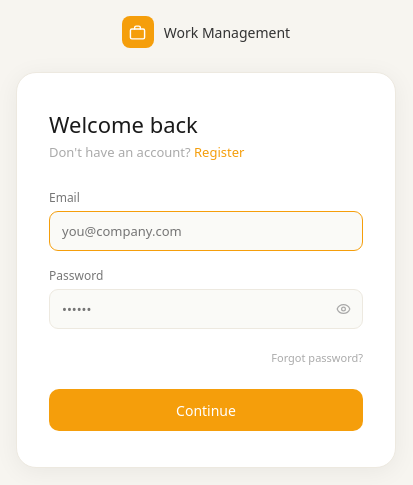
Test: LoginPage Component › toggles password visibility when eye button is clicked
What coordinates should you click on to do the following:
click the button named "show password"
I would click on:
 (344, 309)
Its box is left=336, top=302, right=351, bottom=316.
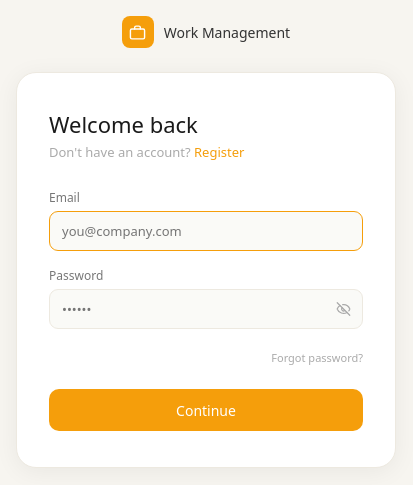
Check: the button named "hide password" is shown, box left=336, top=302, right=351, bottom=316
